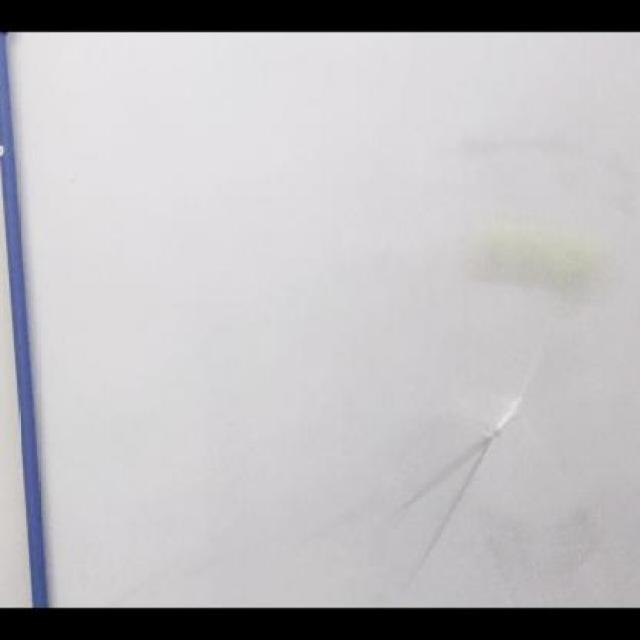baseball: (465, 189, 612, 313)
